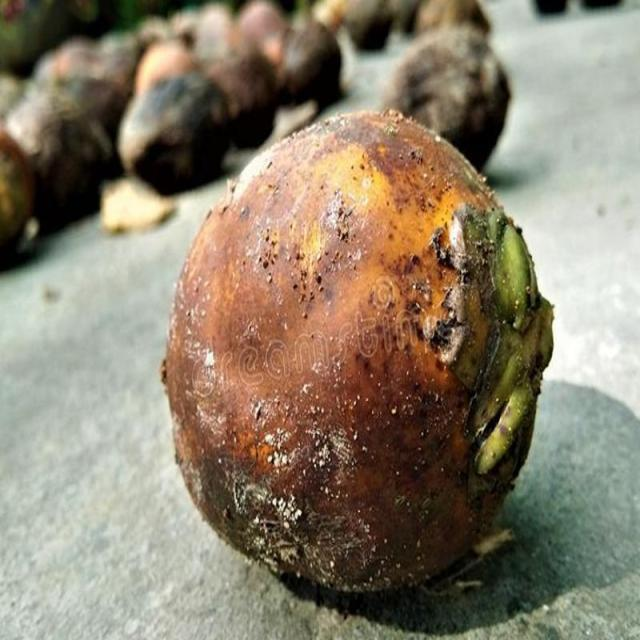damaged: (160, 111, 555, 602)
